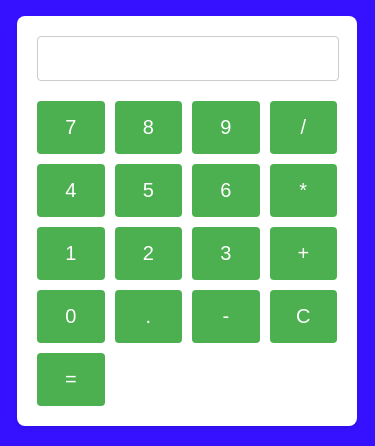
Calculator Component › should calculate the result when "=" button is clicked
The image size is (375, 446).
What coordinates should you click on to do the following:
click the button "7"
I would click on:
 (71, 128)
Its box is [37, 101, 104, 154].
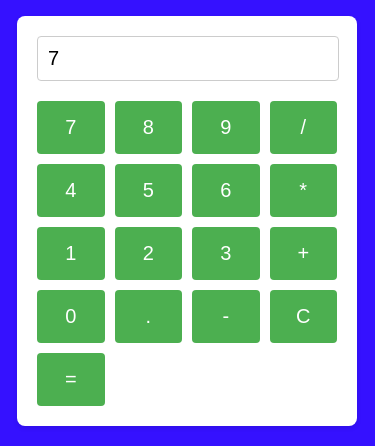
What coordinates should you click on to do the following:
click the button "+"
I would click on:
 (303, 254)
Its box is [270, 227, 337, 280].
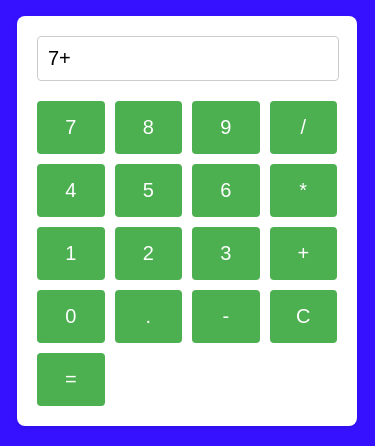
What coordinates should you click on to do the following:
click the button "3"
I would click on:
 (226, 254)
Its box is [192, 227, 260, 280].
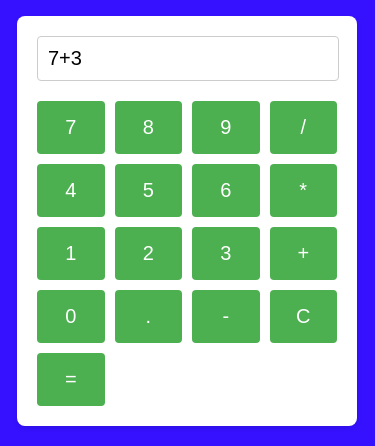
What coordinates should you click on to do the following:
click the button "="
I would click on:
 (71, 380)
Its box is [37, 353, 104, 406].
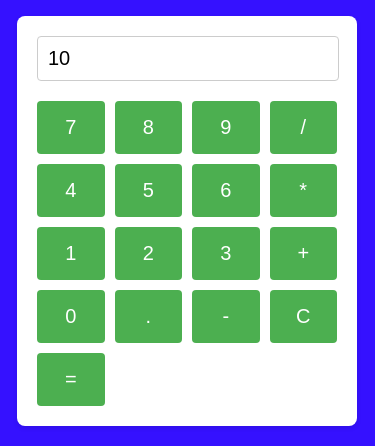
Expected: the field showing "10" is shown, [37, 36, 339, 81]
